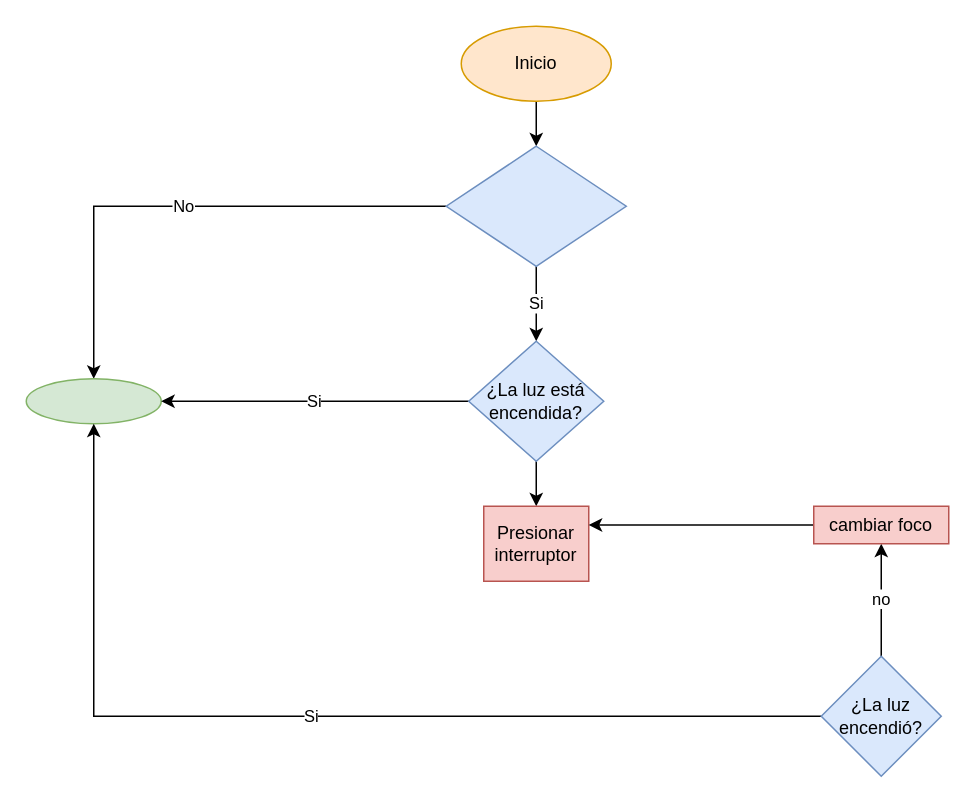
Some shapes in this 975 by 803 pixel diagram are drawn without their labels. Each missing label, with the centre of its shape:
"fin" belongs at point (93, 400).
"¿Me encuentro en una habitación?" belongs at point (535, 205).
